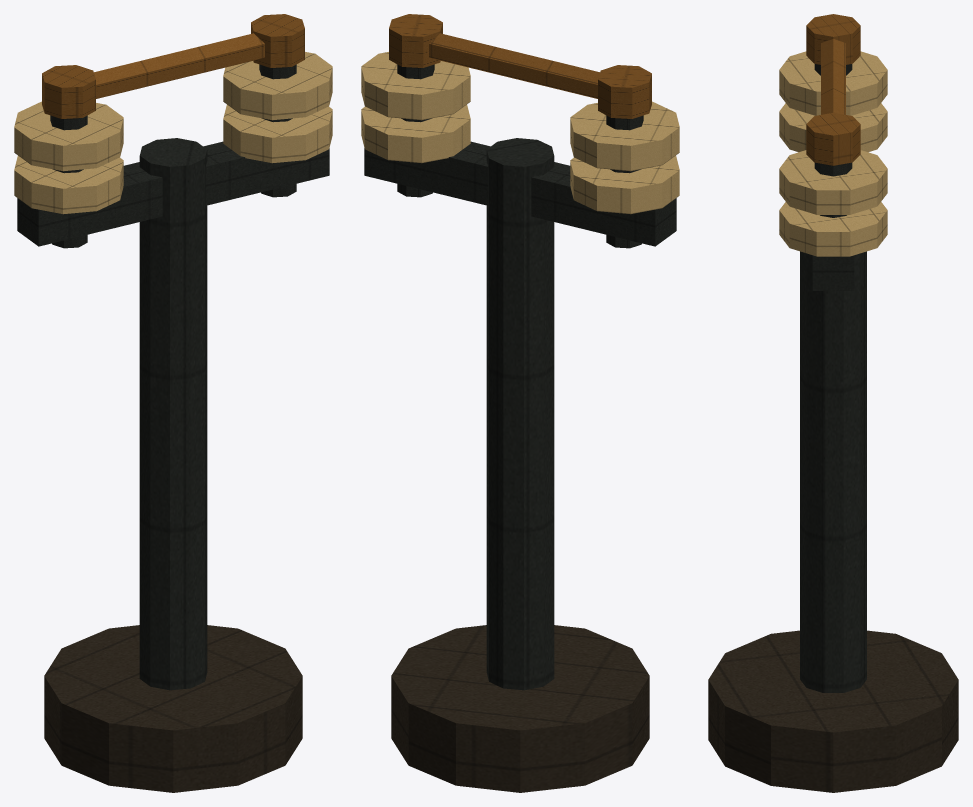
The model's file is insulator-post.e3.glb.
The picture shows the model from 3 angles, left to right: view 1: azimuth 30°, elevation 25°; view 2: azimuth 150°, elevation 25°; view 3: azimuth 270°, elevation 25°; orthographic projection. The views are drawn at different scales.
Visible parts, largest first — view 1: InsulatorPostE3; view 2: InsulatorPostE3; view 3: InsulatorPostE3.
Boxes of the visible parts, <box> form: InsulatorPostE3: <box>14,14,332,792</box>; InsulatorPostE3: <box>361,14,679,792</box>; InsulatorPostE3: <box>708,14,958,792</box>.
Bounding box in the file's own units: 0.8073 × 1.76 × 0.6.
Materials: 1 (1 with a texture image).
